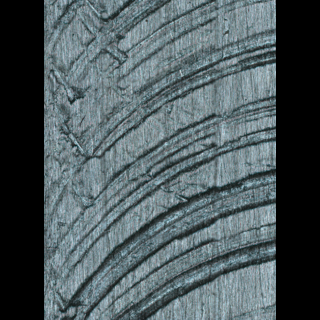d: (44, 0, 273, 317)
